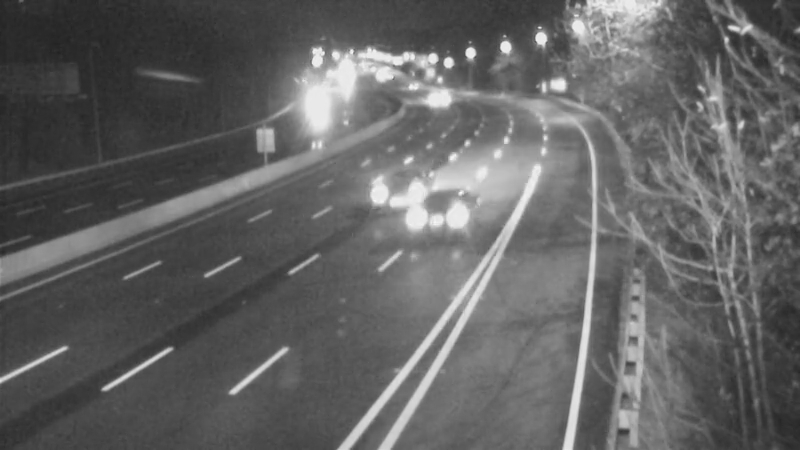vehicle: (359, 139, 439, 219), (407, 171, 487, 251), (383, 59, 433, 109), (405, 72, 455, 122), (292, 76, 342, 126)
